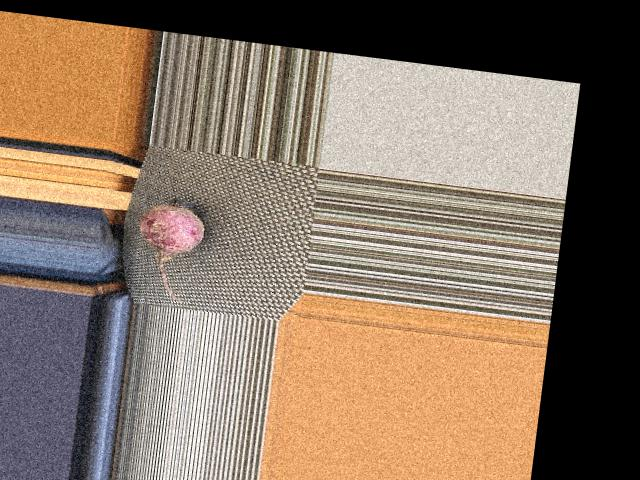beet: (129, 193, 207, 302)
